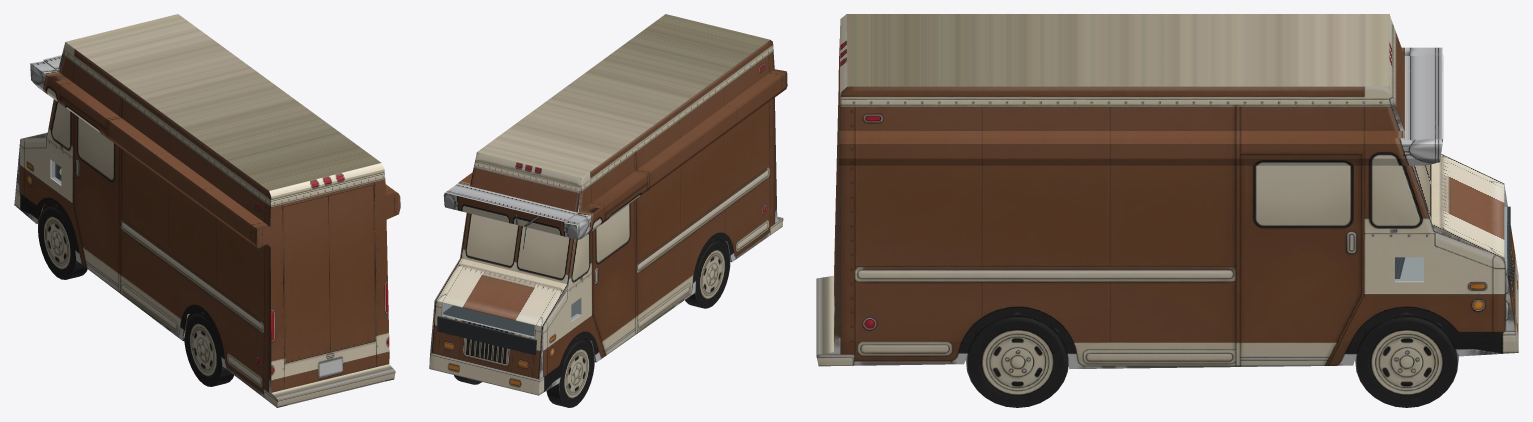
File: parcel_van.glb
3 renders of one model, left to right at view 1: azimuth 30°, elevation 25°; view 2: azimuth 150°, elevation 25°; view 3: azimuth 270°, elevation 25°, orthographic. The views are drawn at different scales.
Parts seen in each view (by area): view 1: parcel_van, wheel_FL, wheel_BL; view 2: parcel_van, parcel_van_cabin, wheel_FL, wheel_BL; view 3: parcel_van, wheel_FR, wheel_BR, parcel_van_cabin.
Boxes of the visible parts, x1=… form: parcel_van: x1=14, y1=14, x2=400, y2=407; wheel_FL: x1=38, y1=205, x2=87, y2=279; wheel_BL: x1=184, y1=312, x2=233, y2=386; parcel_van: x1=429, y1=14, x2=787, y2=395; parcel_van_cabin: x1=437, y1=299, x2=579, y2=355; wheel_FL: x1=546, y1=338, x2=594, y2=407; wheel_BL: x1=685, y1=239, x2=730, y2=308; parcel_van: x1=816, y1=14, x2=1518, y2=369; wheel_FR: x1=1355, y1=312, x2=1458, y2=407; wheel_BR: x1=965, y1=312, x2=1068, y2=407; parcel_van_cabin: x1=1395, y1=199, x2=1510, y2=295.
Size of the model in its own units: 2.04 by 3.26 by 6.49.
11 materials, 4 textured.
